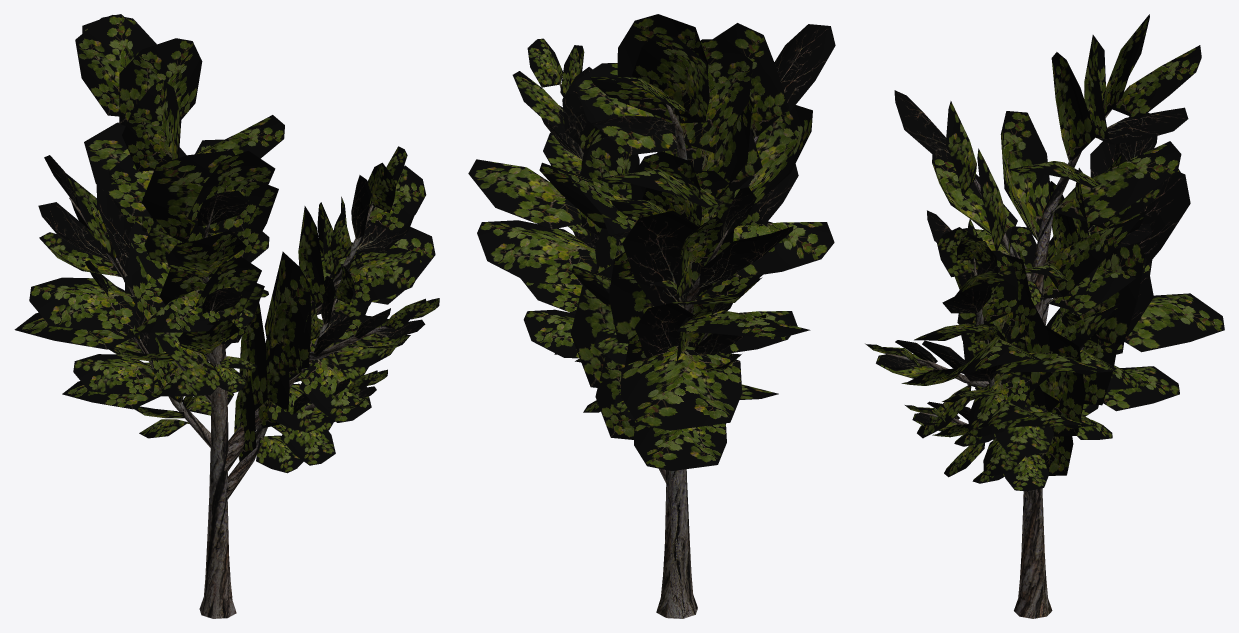
The model's file is laubbaum.glb.
The picture shows the model from 3 angles, left to right: view 1: azimuth 30°, elevation 25°; view 2: azimuth 150°, elevation 25°; view 3: azimuth 270°, elevation 25°; orthographic projection. The views are drawn at different scales.
Visible parts, largest first — view 1: Circle.005, Plane.029, Plane.052, Plane.001, Plane.005, Plane.035, Plane.026, Plane.040, Plane.004, Plane, Plane.045, Plane.027 (+7 smaller); view 2: Circle.005, Plane.026, Plane.024, Plane.007, Plane.004, Plane.050, Plane.046, Plane.006, Plane.051, Plane.035, Plane.039, Plane.037 (+3 smaller); view 3: Circle.005, Plane.026, Plane.038, Plane.023, Plane.002, Plane.004, Plane.037, Plane.046, Plane.003, Plane.045, Plane.007, Plane.048 (+4 smaller).
Boxes of the visible parts, x1,y1,x2,y2 form: Circle.005: (14, 14, 439, 618); Plane.029: (73, 354, 154, 394); Plane.052: (195, 257, 261, 319); Plane.001: (258, 334, 289, 428); Plane.005: (280, 424, 335, 465); Plane.035: (153, 362, 223, 396); Plane.026: (62, 381, 160, 409); Plane.040: (178, 318, 239, 354); Plane.004: (234, 376, 256, 461); Plane: (256, 435, 303, 473); Plane.045: (159, 266, 219, 304); Plane.027: (154, 332, 208, 369); Circle.005: (468, 14, 835, 618); Plane.026: (634, 422, 726, 470); Plane.024: (635, 303, 693, 358); Plane.007: (523, 309, 579, 358); Plane.004: (595, 356, 636, 439); Plane.050: (642, 166, 701, 226); Plane.046: (695, 171, 735, 225); Plane.006: (521, 279, 582, 314); Plane.051: (631, 151, 700, 218); Plane.035: (730, 311, 797, 352); Plane.039: (756, 164, 798, 223); Plane.037: (571, 265, 611, 307); Circle.005: (865, 14, 1224, 618); Plane.026: (1103, 366, 1179, 411); Plane.038: (1049, 257, 1146, 313); Plane.023: (1083, 339, 1117, 405); Plane.002: (1004, 454, 1049, 491); Plane.004: (1039, 391, 1073, 475); Plane.037: (1057, 302, 1120, 347); Plane.046: (1048, 181, 1079, 253); Plane.003: (983, 438, 1024, 476); Plane.045: (1008, 226, 1036, 274); Plane.007: (1008, 411, 1087, 428); Plane.048: (1093, 183, 1162, 228).
Size of the model in its own units: 6.53 by 10.38 by 5.97.
Materials: 1 (1 with a texture image).
